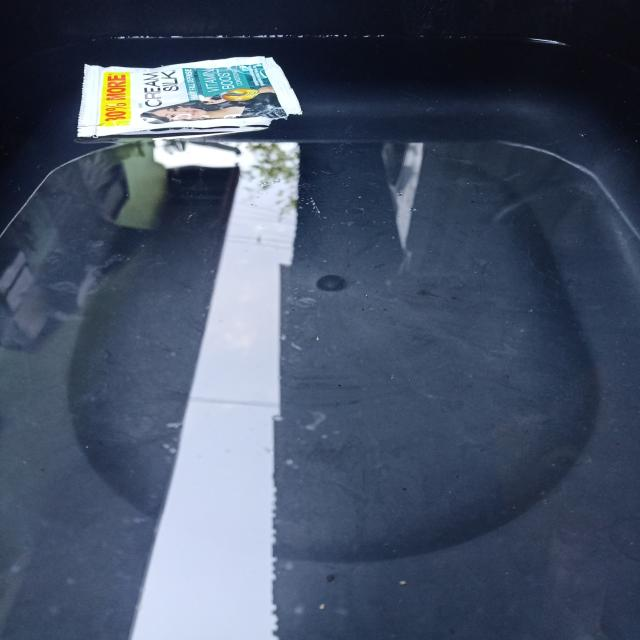Plastic Wrapper: (65, 49, 326, 148)
